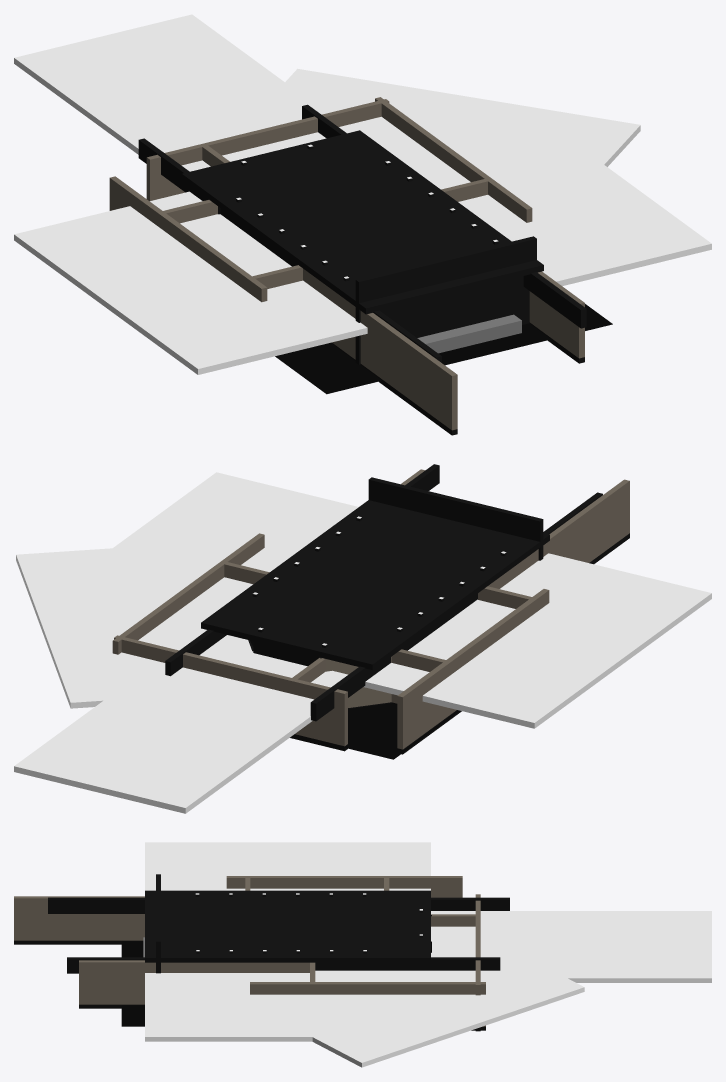
Rendered from Trinity.obj.
The picture shows the model from 3 angles, top to bottom: view 1: azimuth 30°, elevation 25°; view 2: azimuth 150°, elevation 25°; view 3: azimuth 270°, elevation 25°; orthographic projection. The views are drawn at different scales.
Visible parts, largest first — view 1: Ceiling, Ceiling1, Ceiling2, Ceiling4, Ceiling3, pCube9, Wall2, pPlane1, pCube6, Wall4, Wall5, Wall1 (+6 smaller); view 2: Ceiling, Ceiling1, Ceiling4, Ceiling2, Ceiling3, pCube6, Wall2, Wall4, pCube9, pPlane1, Wall5, RightSide RoodEdge2 (+6 smaller); view 3: Ceiling, Ceiling2, Ceiling4, Ceiling3, Ceiling1, Wall1, Wall2, Wall4, Wall5, RightSide RoodEdge2, LeftSide RoofEdge3, pPlane1 (+3 smaller).
Boxes of the visible parts, <box> form: Ceiling: <box>182,130,543,314</box>; Ceiling1: <box>14,191,367,374</box>; Ceiling2: <box>380,109,711,286</box>; Ceiling4: <box>14,14,350,171</box>; Ceiling3: <box>237,68,640,205</box>; pCube9: <box>355,236,536,364</box>; Wall2: <box>303,268,457,435</box>; pPlane1: <box>275,304,612,394</box>; pCube6: <box>146,99,389,201</box>; Wall4: <box>109,176,267,302</box>; Wall5: <box>375,97,532,222</box>; Wall1: <box>529,271,584,363</box>; Ceiling: <box>201,500,549,670</box>; Ceiling1: <box>364,553,711,728</box>; Ceiling4: <box>14,638,347,813</box>; Ceiling2: <box>39,472,358,639</box>; Ceiling3: <box>16,548,266,708</box>; pCube6: <box>114,635,347,751</box>; Wall2: <box>488,479,629,588</box>; Wall4: <box>397,589,549,754</box>; pCube9: <box>368,477,543,560</box>; pPlane1: <box>293,703,459,759</box>; Wall5: <box>112,533,264,654</box>; RightSide RoodEdge2: <box>310,492,602,721</box>; Ceiling: <box>145,890,430,962</box>; Ceiling2: <box>145,970,430,1041</box>; Ceiling4: <box>426,911,711,982</box>; Ceiling3: <box>276,934,584,1067</box>; Ceiling1: <box>145,842,430,890</box>; Wall1: <box>79,960,309,1008</box>; Wall2: <box>14,896,144,944</box>; Wall4: <box>226,876,462,897</box>; Wall5: <box>250,982,485,1030</box>; RightSide RoodEdge2: <box>48,897,509,913</box>; LeftSide RoofEdge3: <box>67,957,500,973</box>; pPlane1: <box>121,941,144,1026</box>.
Bounding box in the file's own units: 102 × 15 × 136.
